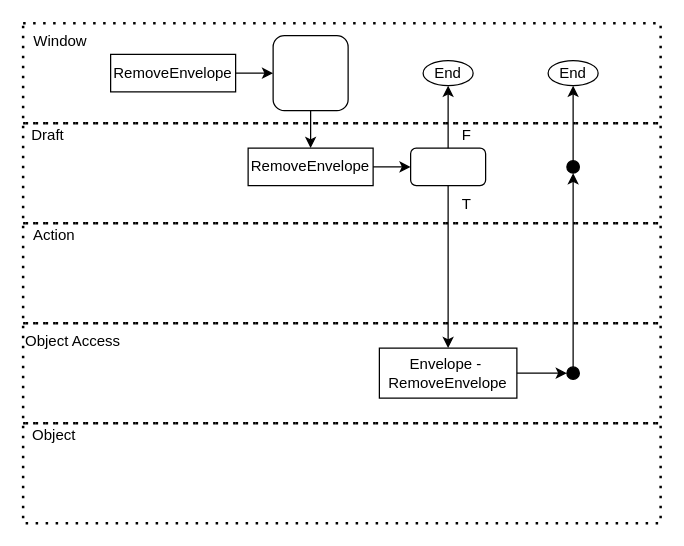
Image size: 684x546. Some labels were removed from this diagram. The shapes that lost their labels are listed below. From the top down, each one's box as (x1, y1, x2, y2) in pixels, then its label:
(272, 34, 348, 111): Create Response Ticket
(409, 147, 486, 186): Validate
